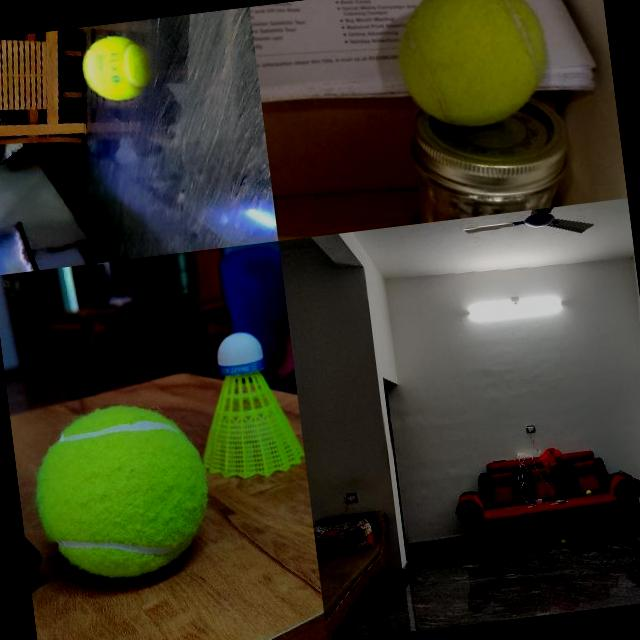tennis-ball: (27, 397, 215, 585), (389, 0, 555, 135), (78, 31, 155, 105), (584, 488, 592, 495), (560, 538, 566, 544)
